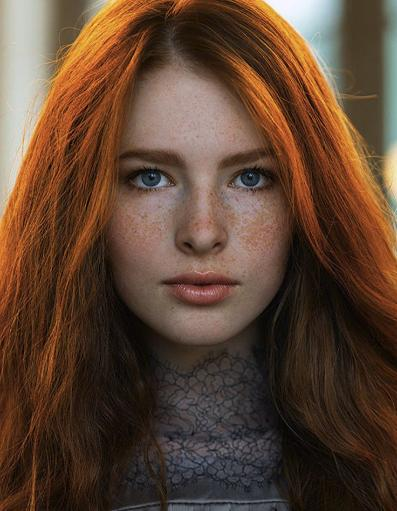left_eye: (227, 166, 281, 197)
left_lip_corner: (231, 276, 246, 298)
right_eye: (124, 166, 179, 197)
right_lip_corner: (159, 276, 174, 298)
